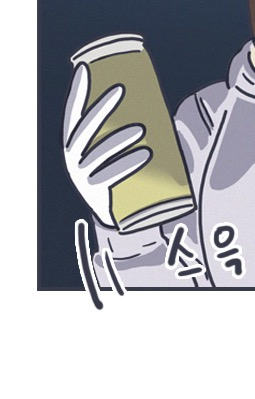can: (62, 27, 204, 237)
